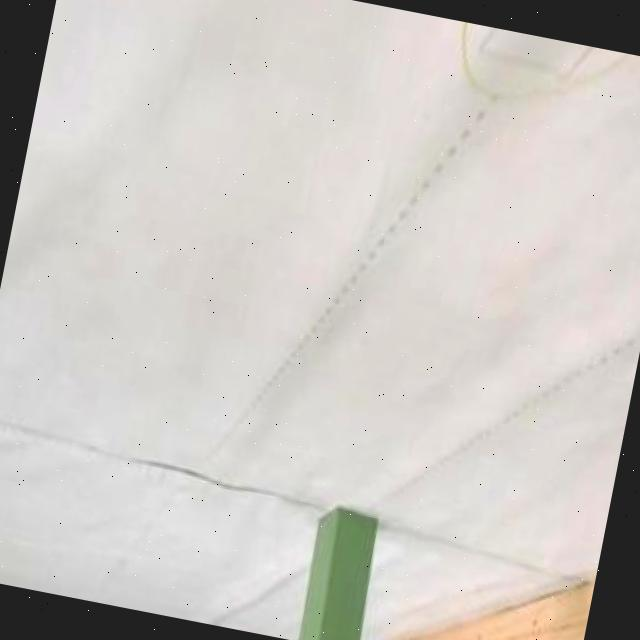greenbox: (294, 503, 388, 640)
